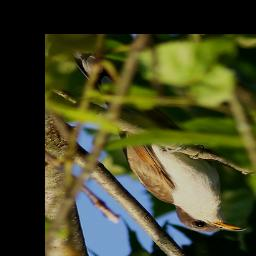Cuckoo: (68, 48, 251, 237)
